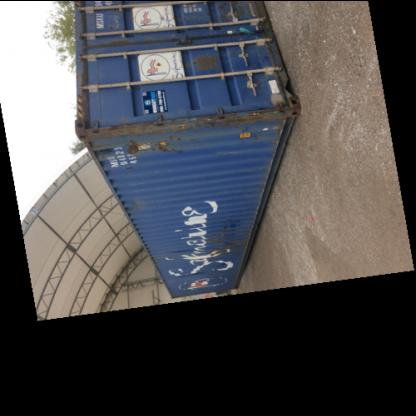Damage: (154, 101, 286, 132), (208, 215, 249, 256), (119, 134, 174, 156), (184, 47, 224, 74), (123, 186, 145, 216), (161, 240, 193, 257), (178, 269, 208, 280)
